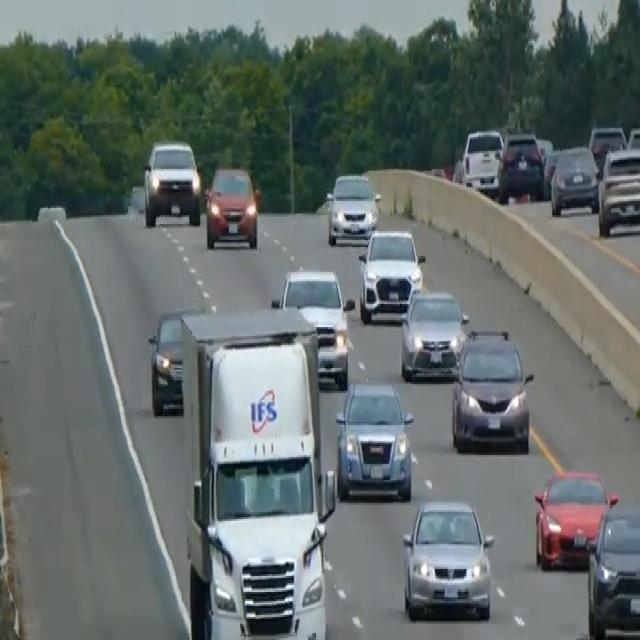car: (401, 496, 495, 620), (450, 326, 534, 454), (334, 377, 414, 501), (272, 266, 352, 386), (533, 466, 617, 569), (586, 502, 639, 638), (357, 225, 425, 324), (399, 286, 468, 382), (147, 304, 204, 416), (142, 137, 201, 227), (204, 162, 259, 249), (325, 169, 381, 245), (597, 146, 639, 236), (549, 142, 599, 215), (496, 130, 545, 201), (460, 126, 504, 192), (588, 123, 626, 167), (627, 124, 639, 153)
lorry: (179, 306, 337, 636)
